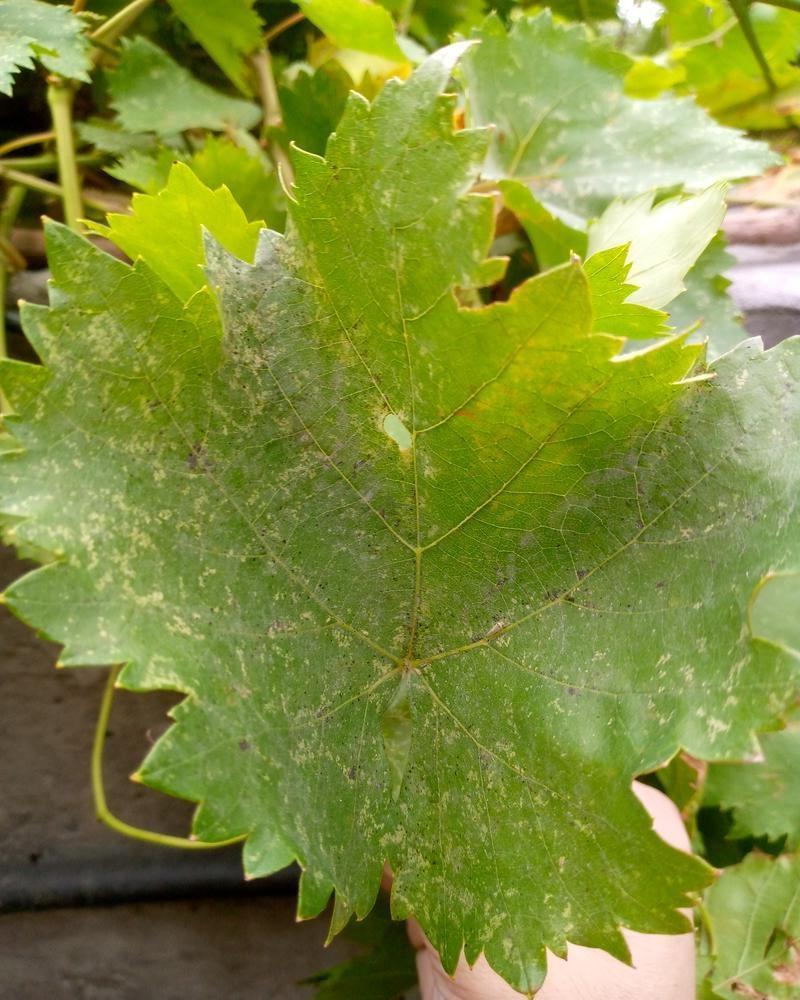Powdery-Mildew: (378, 802, 579, 991), (29, 383, 159, 628), (205, 228, 337, 419), (548, 621, 673, 764), (690, 638, 799, 740), (138, 583, 222, 695), (363, 388, 438, 483), (82, 296, 145, 359), (183, 434, 246, 497), (277, 437, 340, 500), (333, 717, 396, 780)
